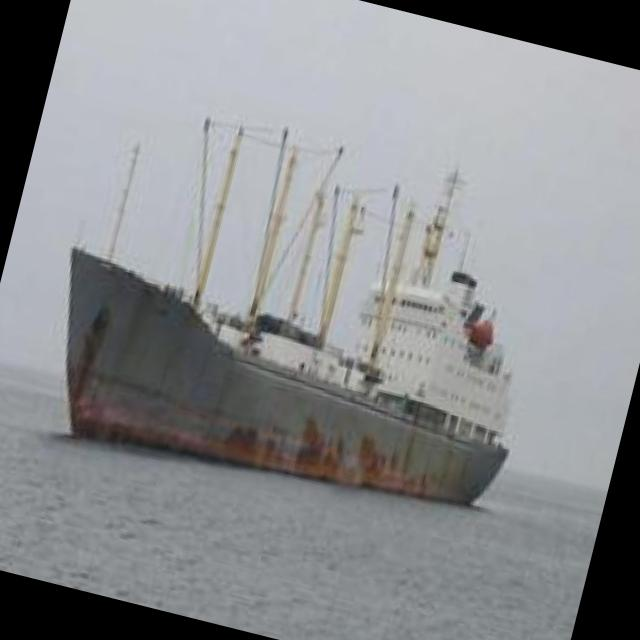boat: (46, 110, 568, 528)
